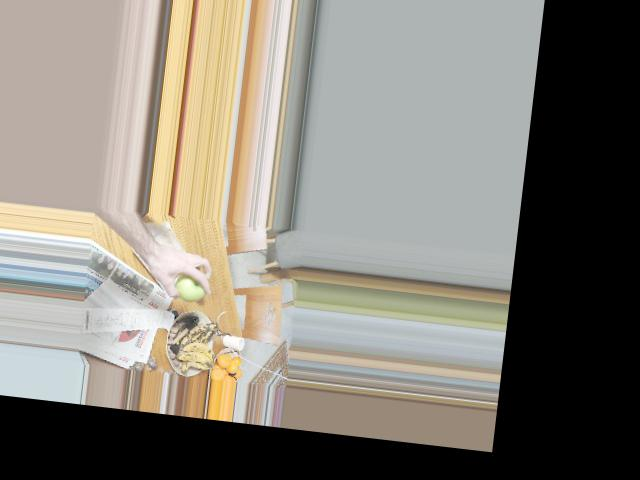apple: (167, 266, 213, 302)
